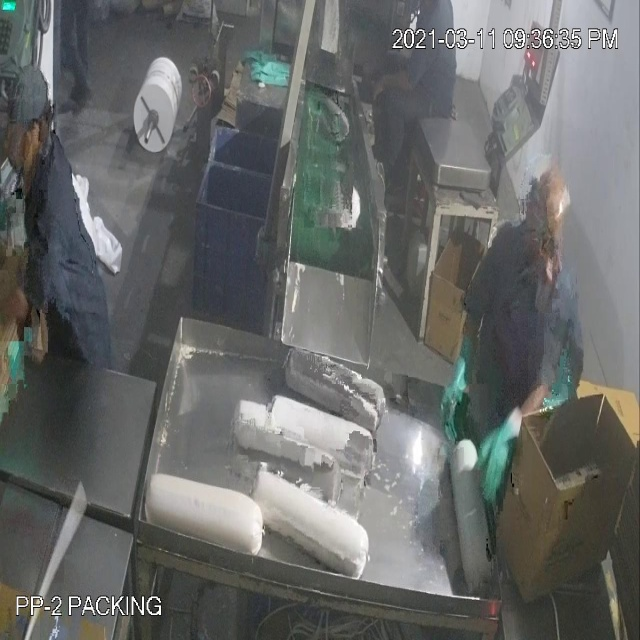Guantes: (441, 324, 480, 444)
